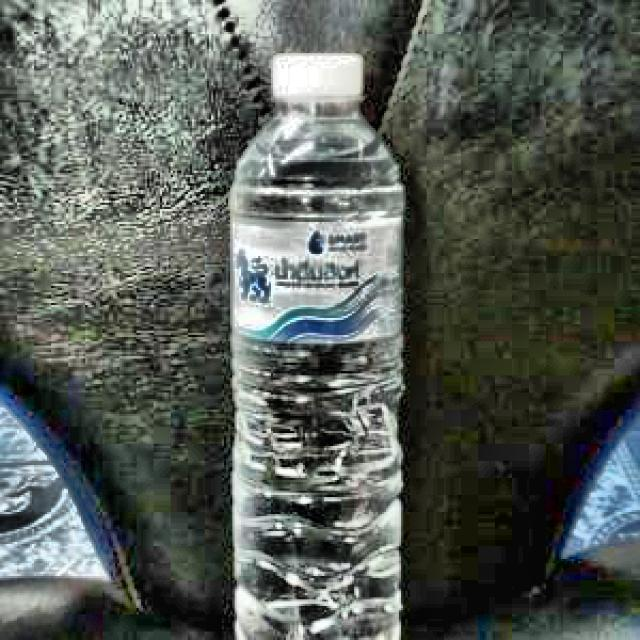Bottles: (230, 38, 412, 640)
